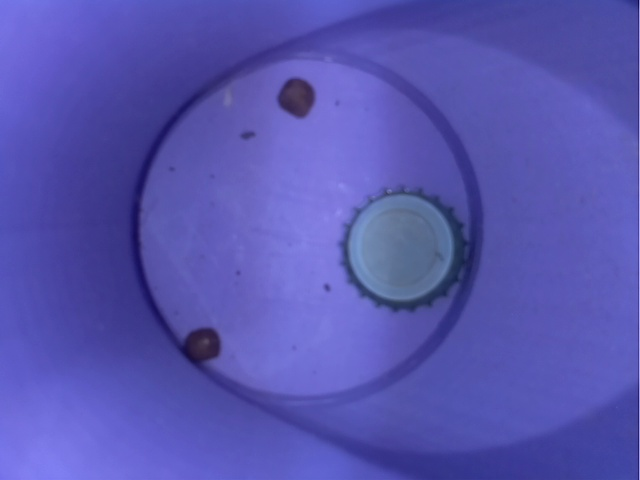capsule: (324, 174, 491, 327)
croquette: (274, 67, 320, 132), (175, 319, 224, 376)
